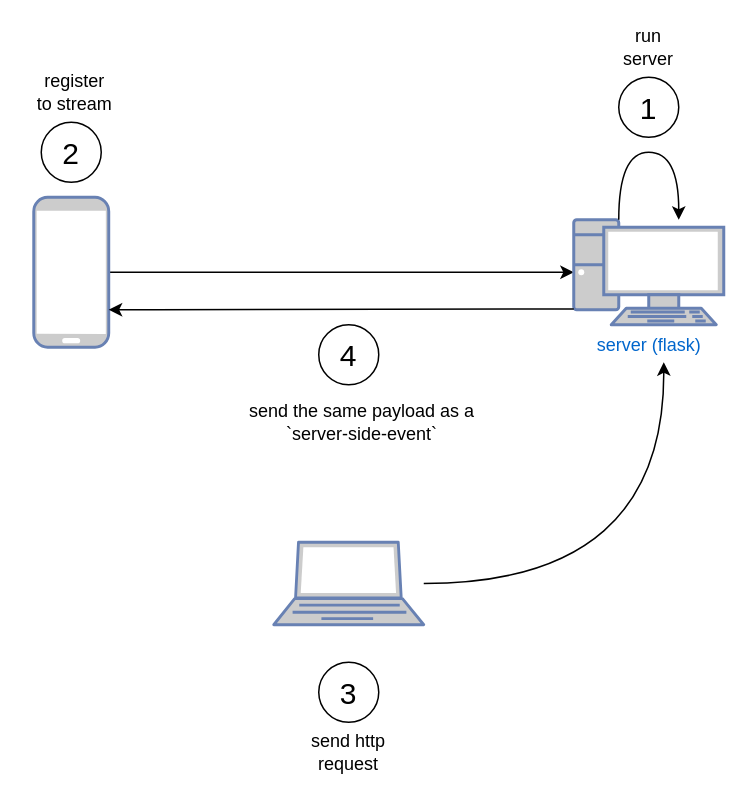
Image size: 750x800. Some labels were removed from this diagram. The shapes that lost their labels are listed below. From the top down, each one's centre as x and y in pixels, then its label:
point 71,271: client (dart)
point 348,583: trigger (curl)
